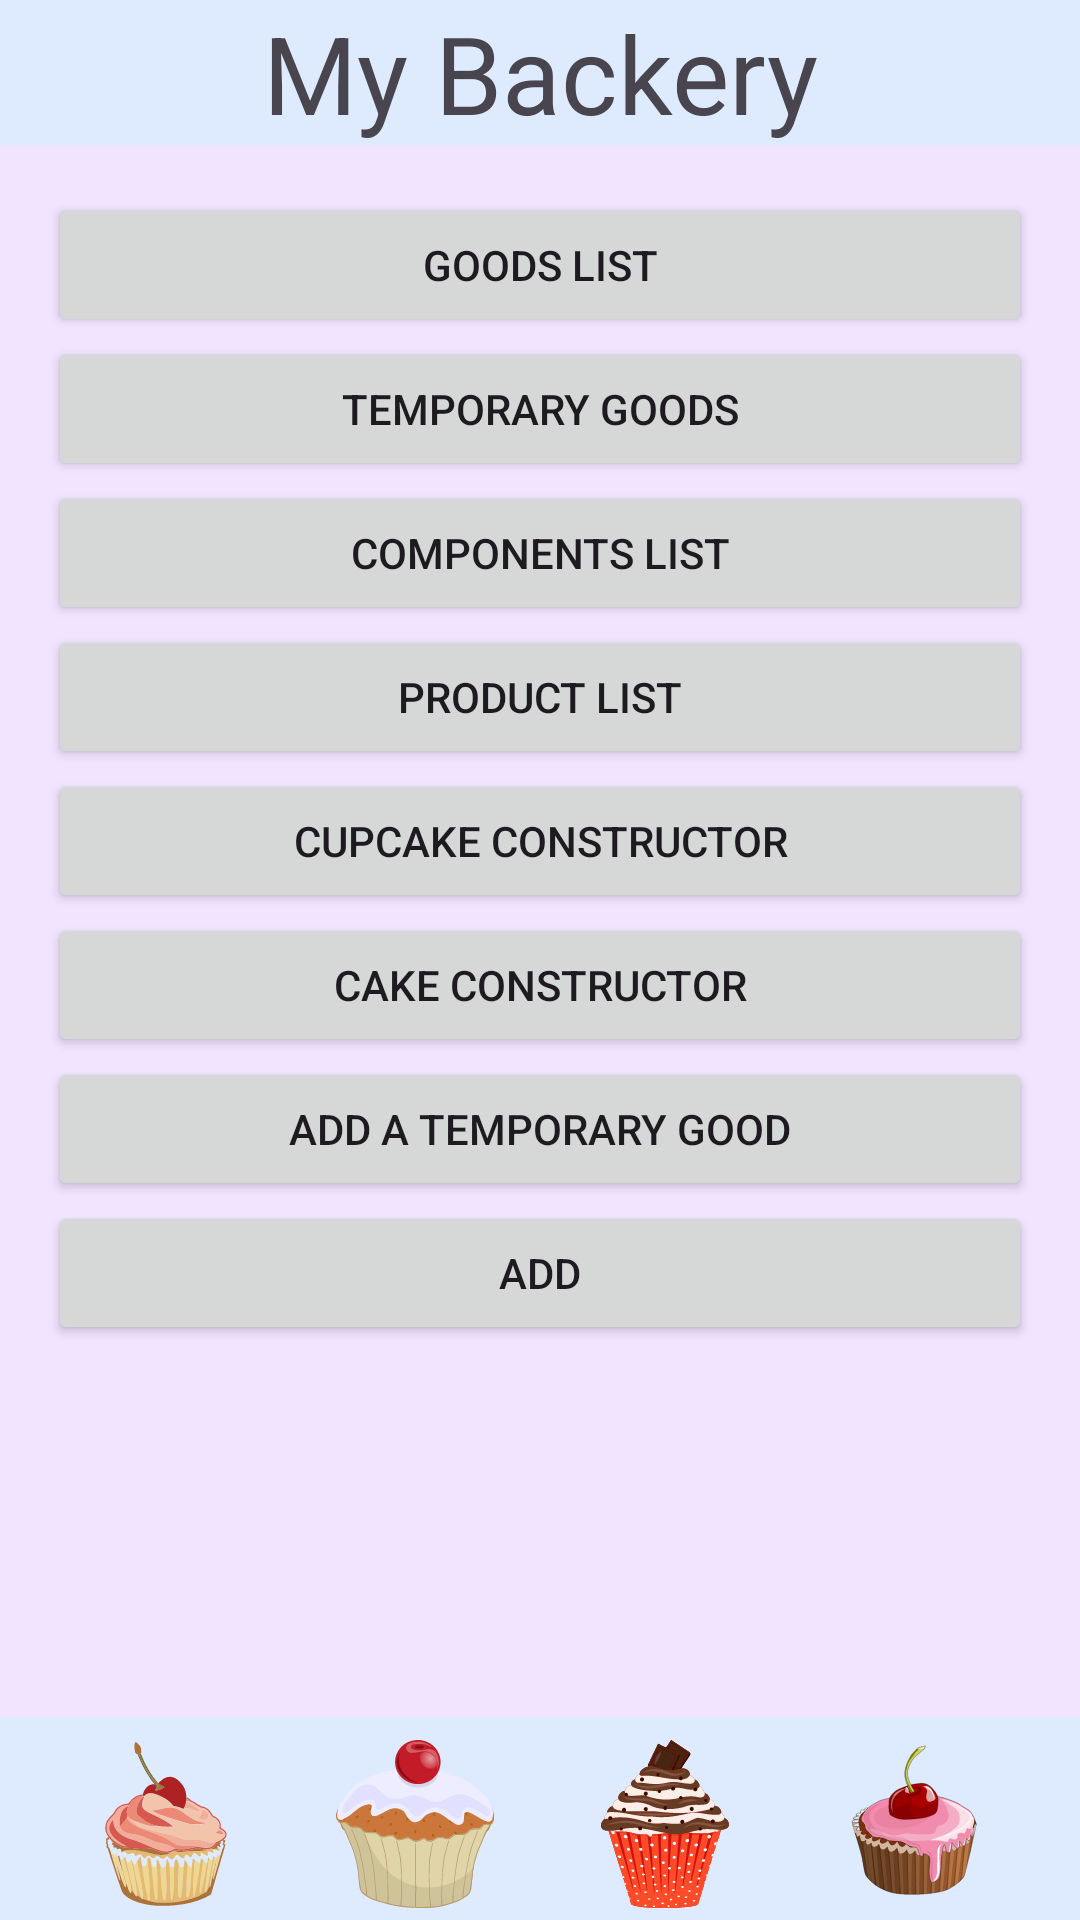

Named icons in this screenshot (1080×1920) and their bounding boxes, (x1, y1, x2, y2):
cake: (336, 1740, 494, 1908), (601, 1740, 729, 1908), (105, 1742, 227, 1906), (851, 1745, 977, 1895)
